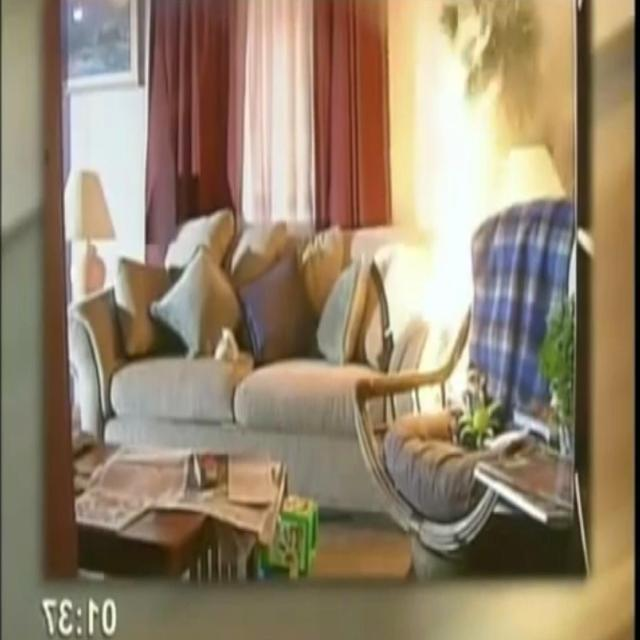smoke: (408, 69, 500, 392)
